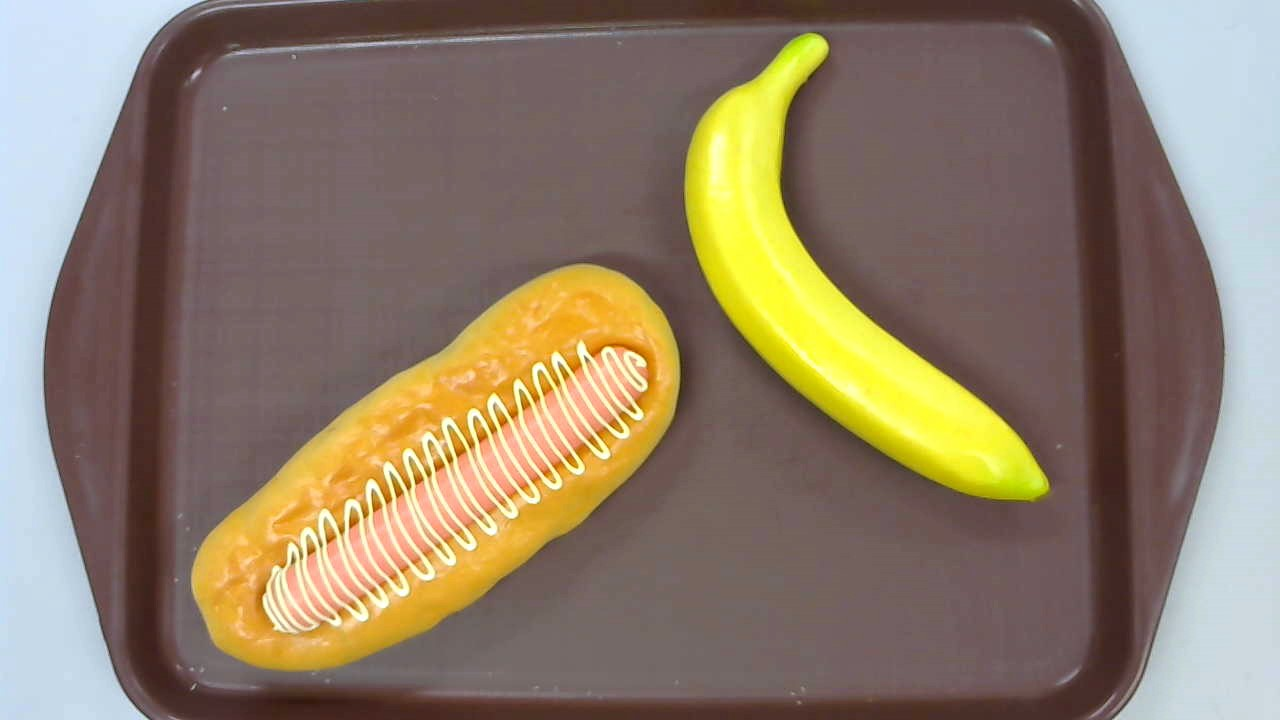banana: (683, 32, 1049, 503)
hot dog: (189, 263, 680, 673)
